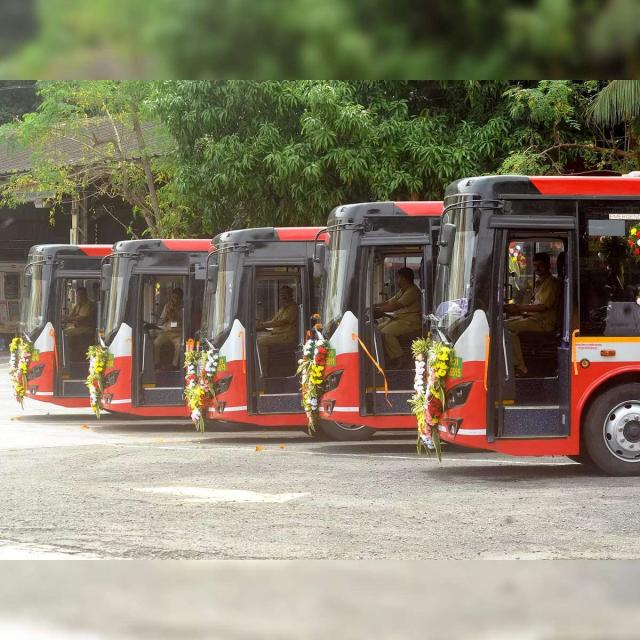bus: (430, 174, 640, 476), (320, 201, 442, 440), (200, 228, 329, 426), (100, 239, 210, 418)
